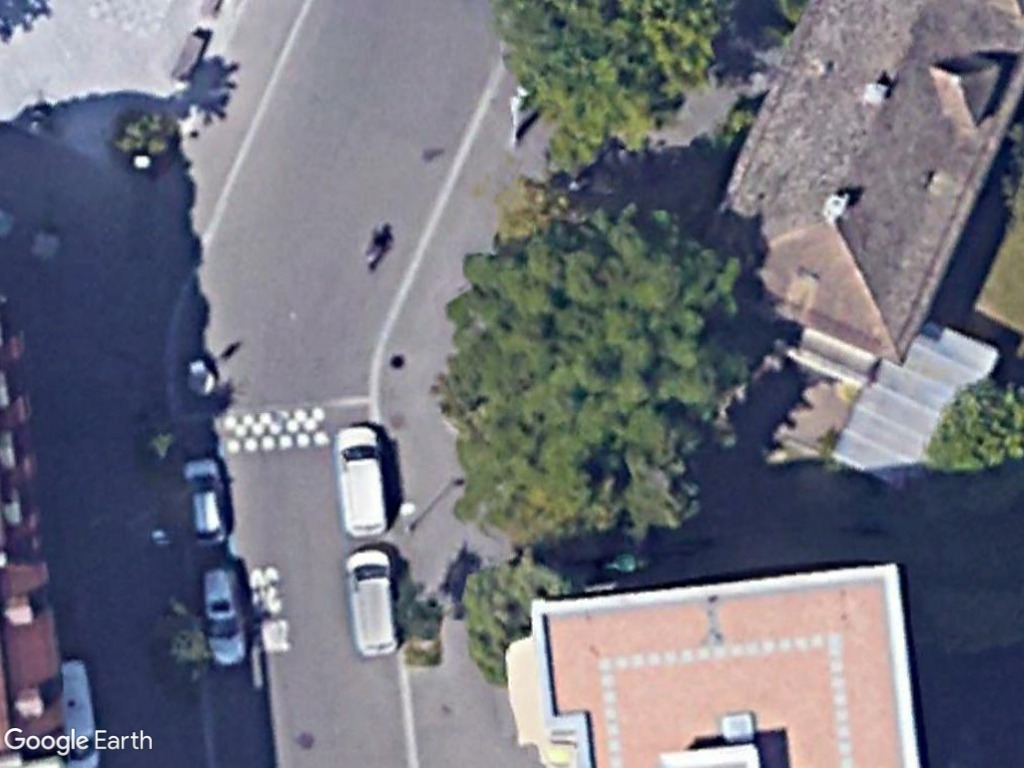car: (199, 561, 254, 669), (181, 457, 231, 554)
van: (342, 546, 403, 663), (331, 422, 389, 540)
